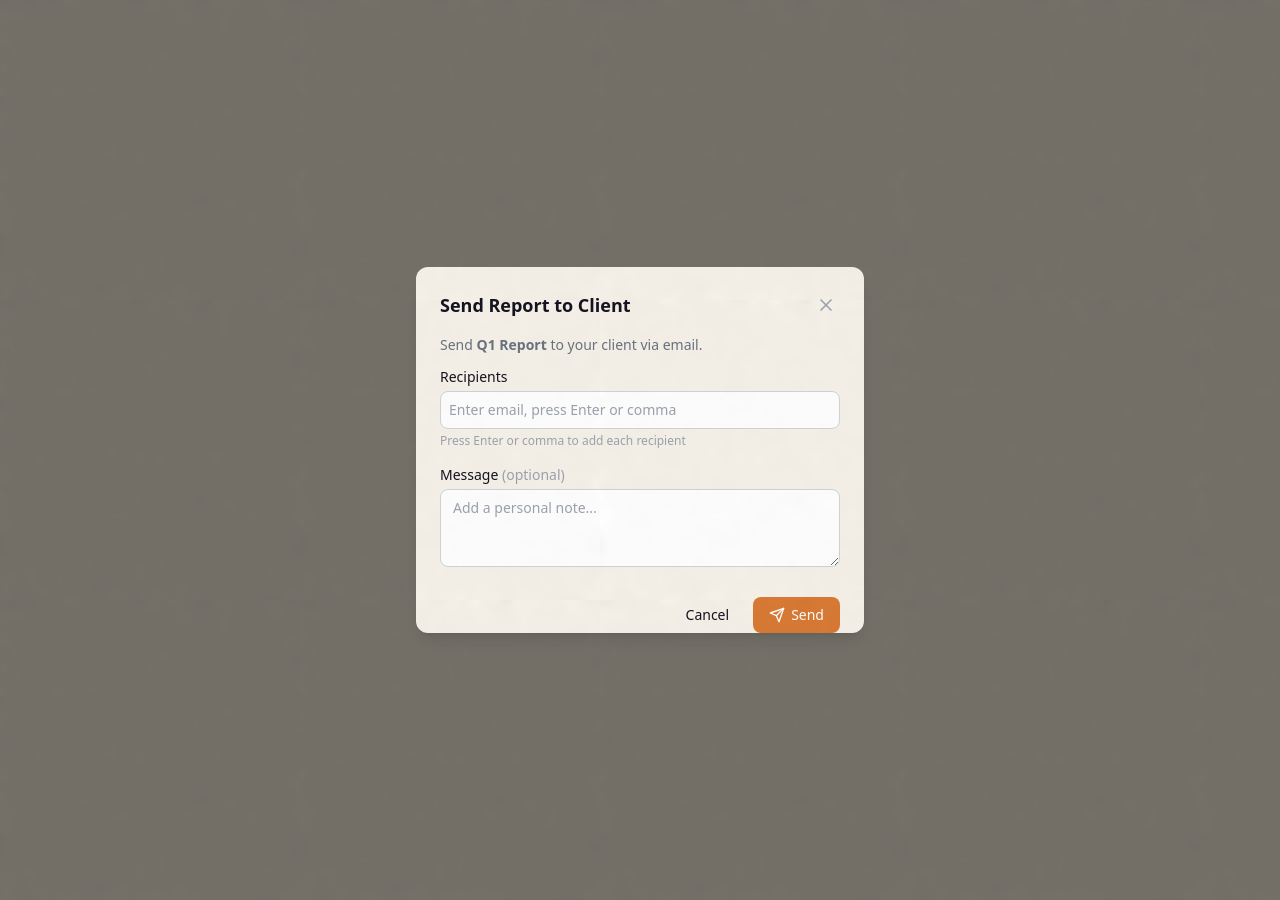
SendToClientModal recipient entry › removes a chip when its remove button is clicked
This screenshot has width=1280, height=900.
Type "a@test.com" into the field with placeholder "Enter email, press Enter or comma".
click(640, 410); type("a@test.com")  # box left=449, top=400, right=831, bottom=420
Then press Enter
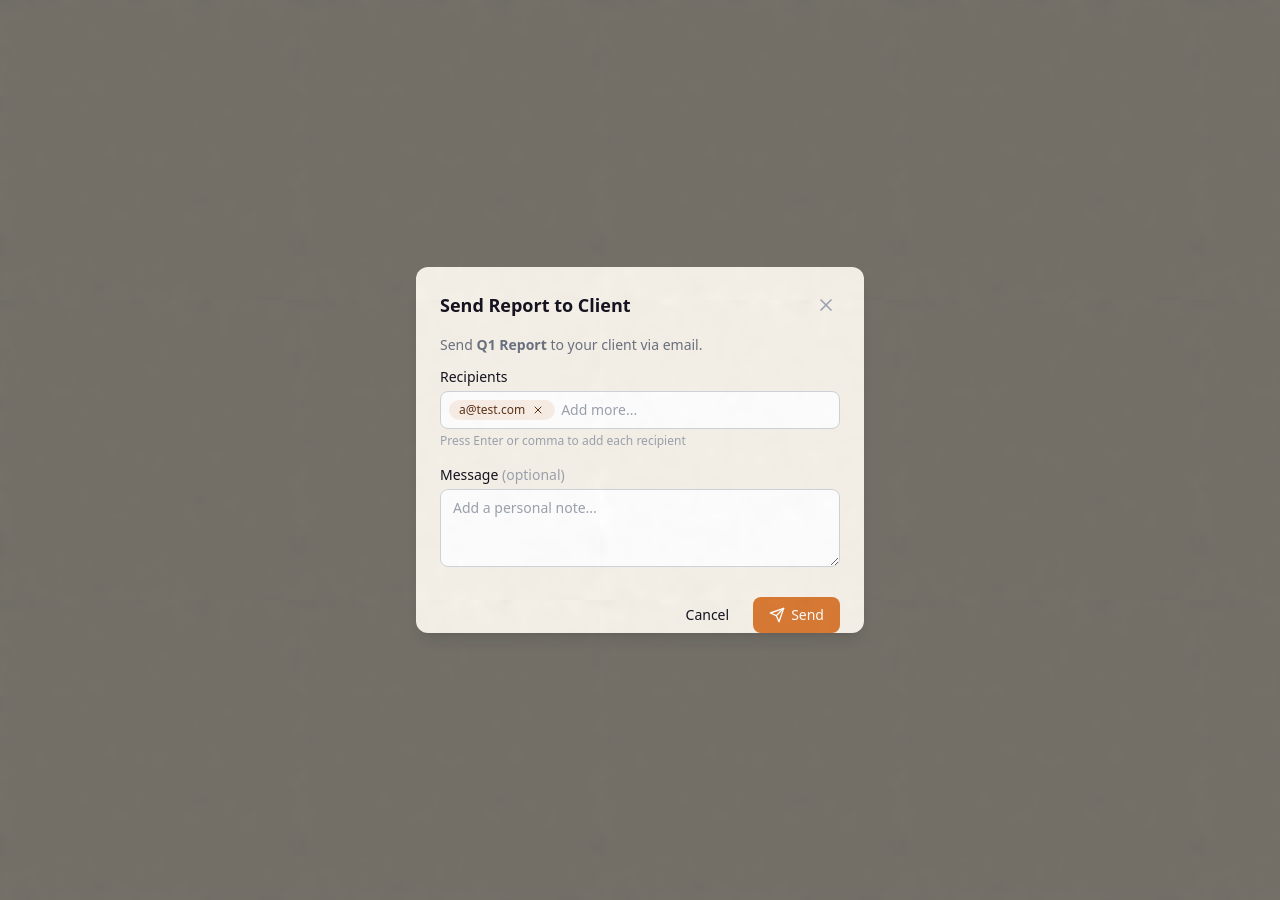
Now the text "a@test.com" is shown, box left=449, top=400, right=555, bottom=420
Click the button without text next to "a@test.com".
click(538, 410)  # box left=531, top=403, right=545, bottom=417
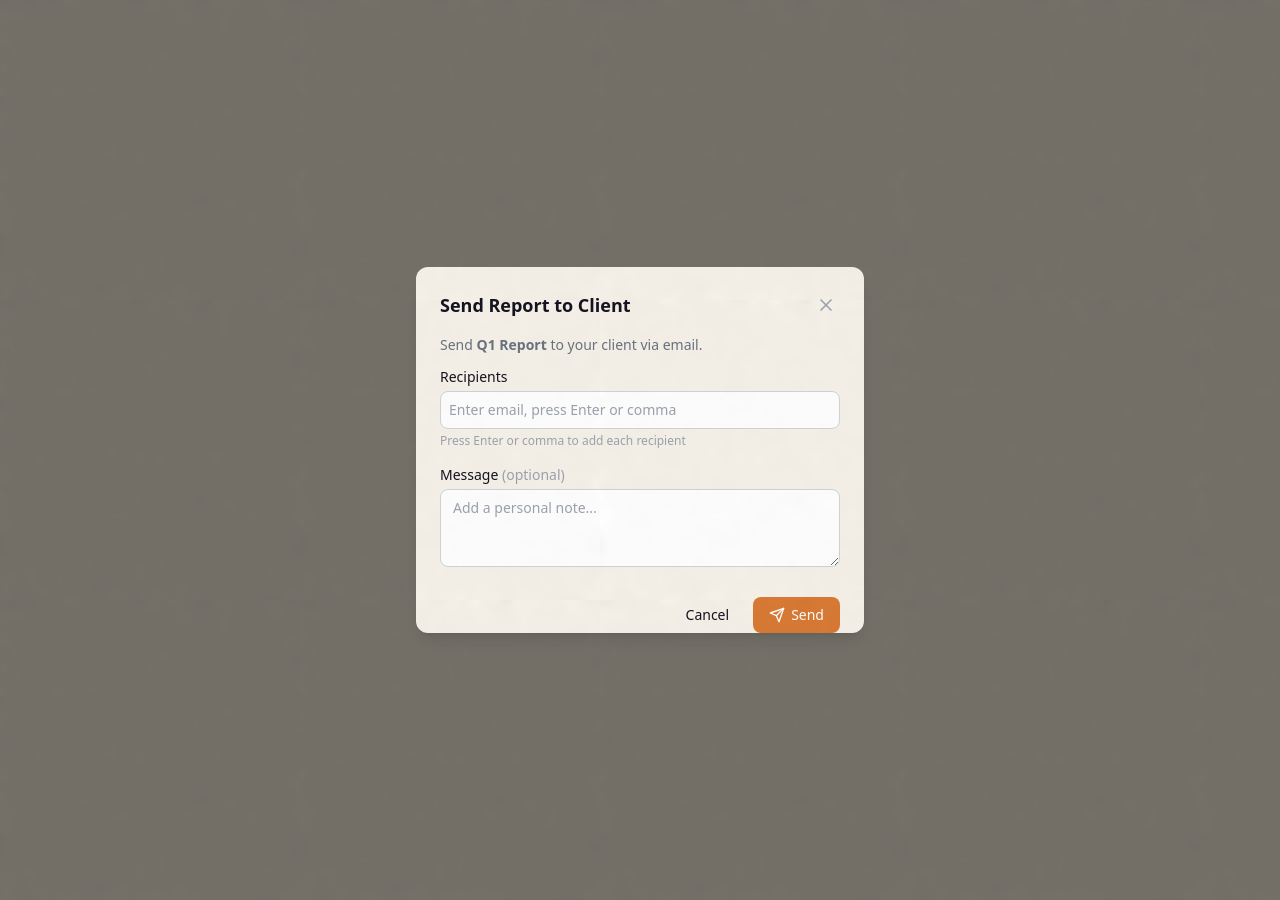
Now the text "a@test.com" is gone
